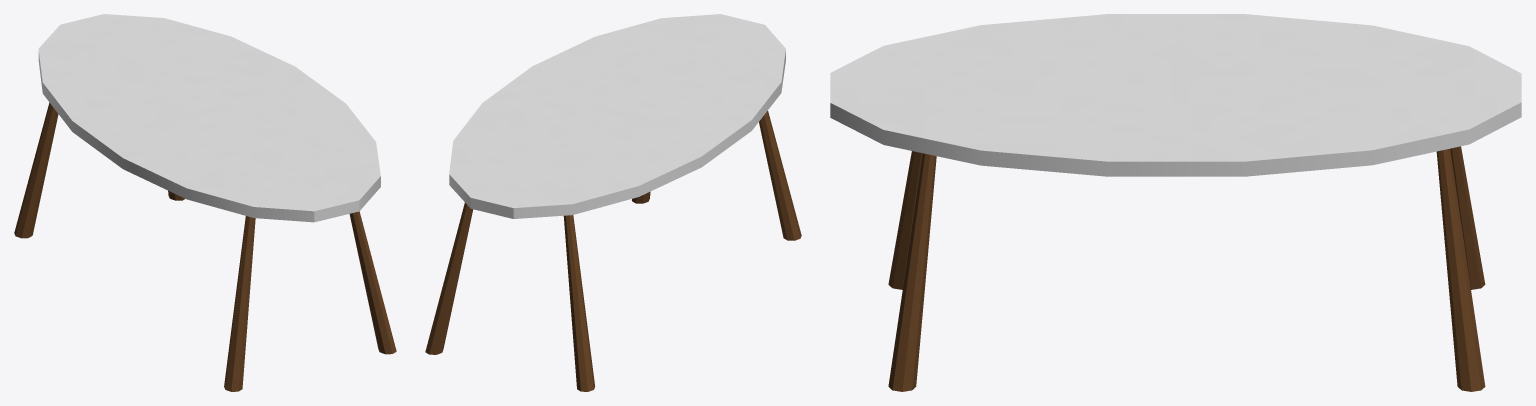
File: Table_03_02.fbx
The picture shows the model from 3 angles, left to right: view 1: azimuth 30°, elevation 25°; view 2: azimuth 150°, elevation 25°; view 3: azimuth 270°, elevation 25°; orthographic projection. The views are drawn at different scales.
Visible parts, largest first — view 1: Table_03_02; view 2: Table_03_02; view 3: Table_03_02.
Boxes of the visible parts, box(x1,y1,x2,y2) form: Table_03_02: box(14, 14, 396, 391); Table_03_02: box(425, 14, 801, 391); Table_03_02: box(830, 14, 1521, 391).
Size of the model in its own units: 1.07 by 0.8341 by 2.11.
